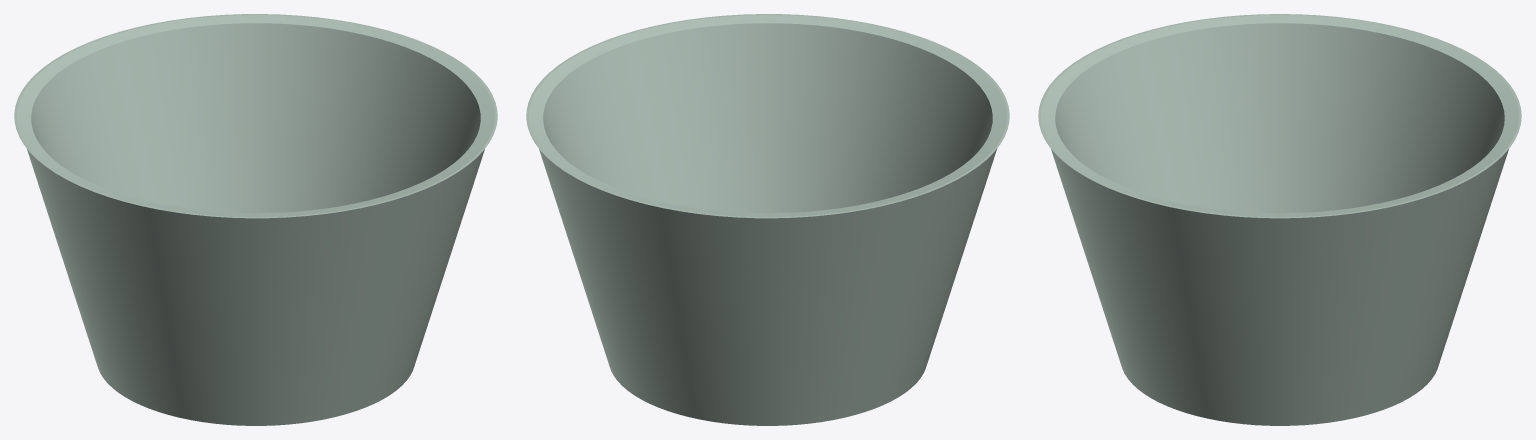
The model's file is misc_com_redware_platter.dae.
3 renders of one model, left to right at view 1: azimuth 30°, elevation 25°; view 2: azimuth 150°, elevation 25°; view 3: azimuth 270°, elevation 25°, orthographic.
Visible parts, largest first — view 1: porcelain; view 2: porcelain; view 3: porcelain.
Boxes of the visible parts, bbox=[...] form: porcelain: bbox=[14, 14, 497, 425]; porcelain: bbox=[526, 14, 1009, 425]; porcelain: bbox=[1038, 14, 1521, 425].
Bounding box in the file's own units: 63.29 × 63.29 × 35.22.
